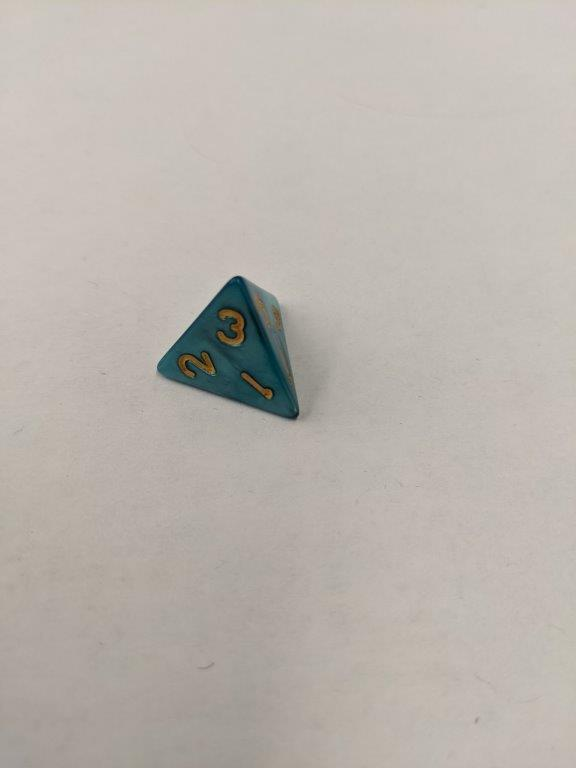d4-3: (153, 270, 302, 430)
